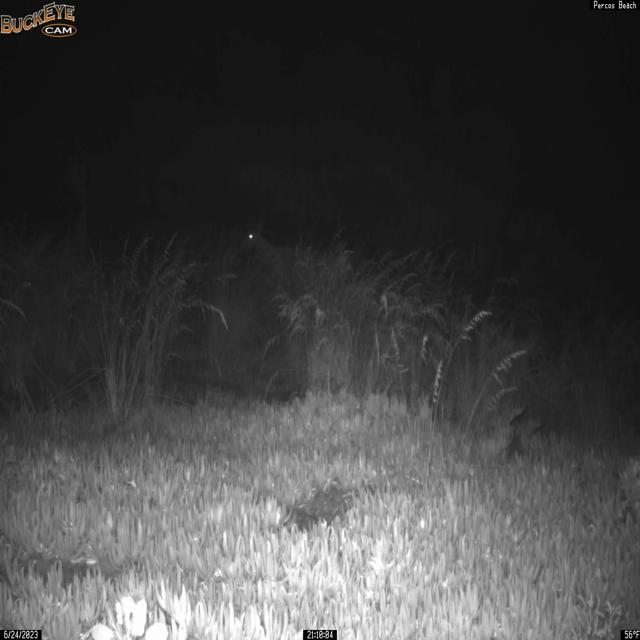deer: (238, 215, 312, 283)
